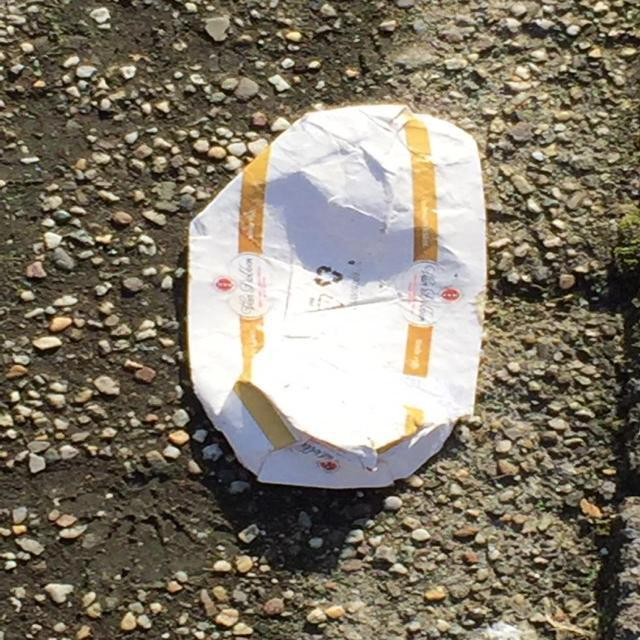Paper: (183, 98, 490, 492)
